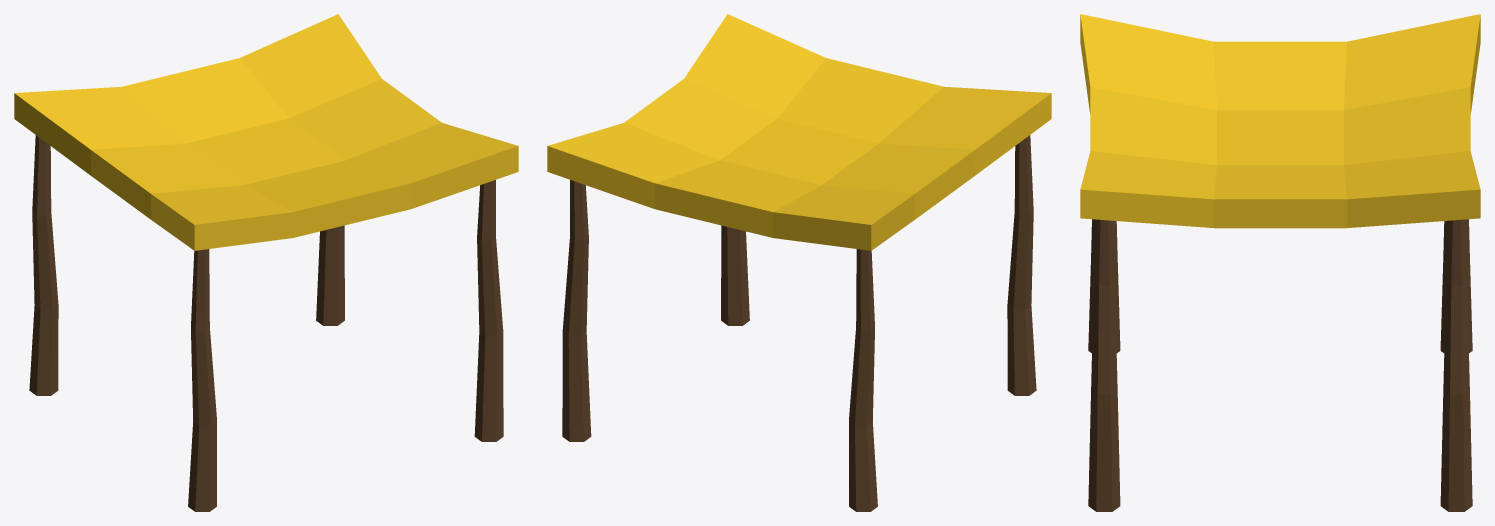
The model's file is egypt-stand-small.glb.
3 views of the same model, side by side, from view 1: azimuth 30°, elevation 25°; view 2: azimuth 150°, elevation 25°; view 3: azimuth 270°, elevation 25° (orthographic). The views are drawn at different scales.
Parts seen in each view (by area): view 1: egypt-stand-small; view 2: egypt-stand-small; view 3: egypt-stand-small.
Part boxes in pixels (x1,y1,x2,y2): egypt-stand-small: (14, 14, 518, 511); egypt-stand-small: (547, 14, 1051, 511); egypt-stand-small: (1080, 14, 1480, 511).
Size of the model in its own units: 2.49 by 2.16 by 2.4.
Materials: 1 (1 with a texture image).
